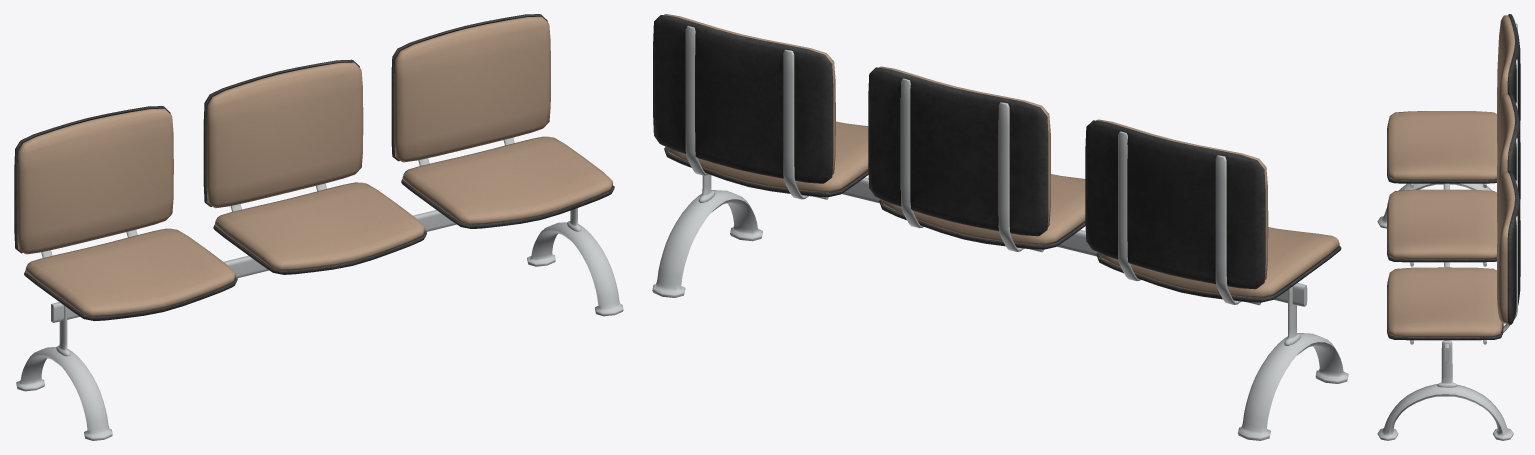
Rendered from AsientosEspera.fbx.
The picture shows the model from 3 angles, left to right: view 1: azimuth 30°, elevation 25°; view 2: azimuth 150°, elevation 25°; view 3: azimuth 270°, elevation 25°; orthographic projection. The views are drawn at different scales.
Visible parts, largest first — view 1: Chair; view 2: Chair; view 3: Chair.
Boxes of the visible parts, bbox=[...] form: Chair: bbox=[14, 14, 623, 440]; Chair: bbox=[652, 14, 1348, 440]; Chair: bbox=[1377, 14, 1520, 440].
Bounding box in the file's own units: 215 × 93.65 × 58.08.
Materials: 1 (1 with a texture image).
